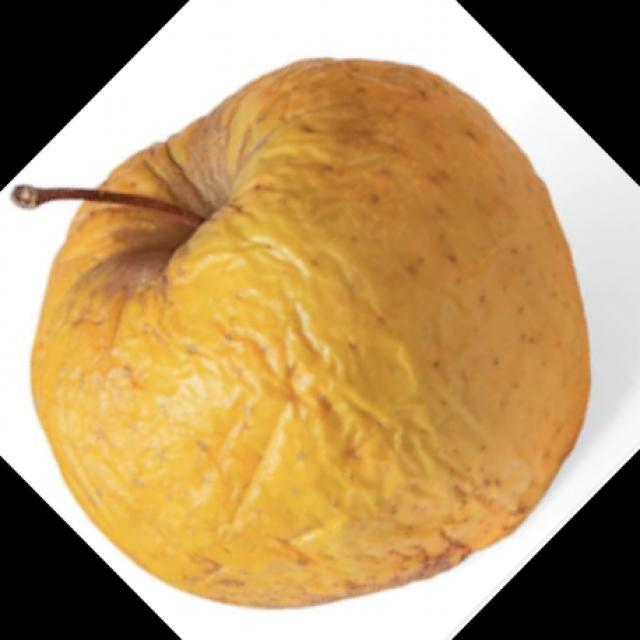Rotten: (24, 55, 588, 597)
